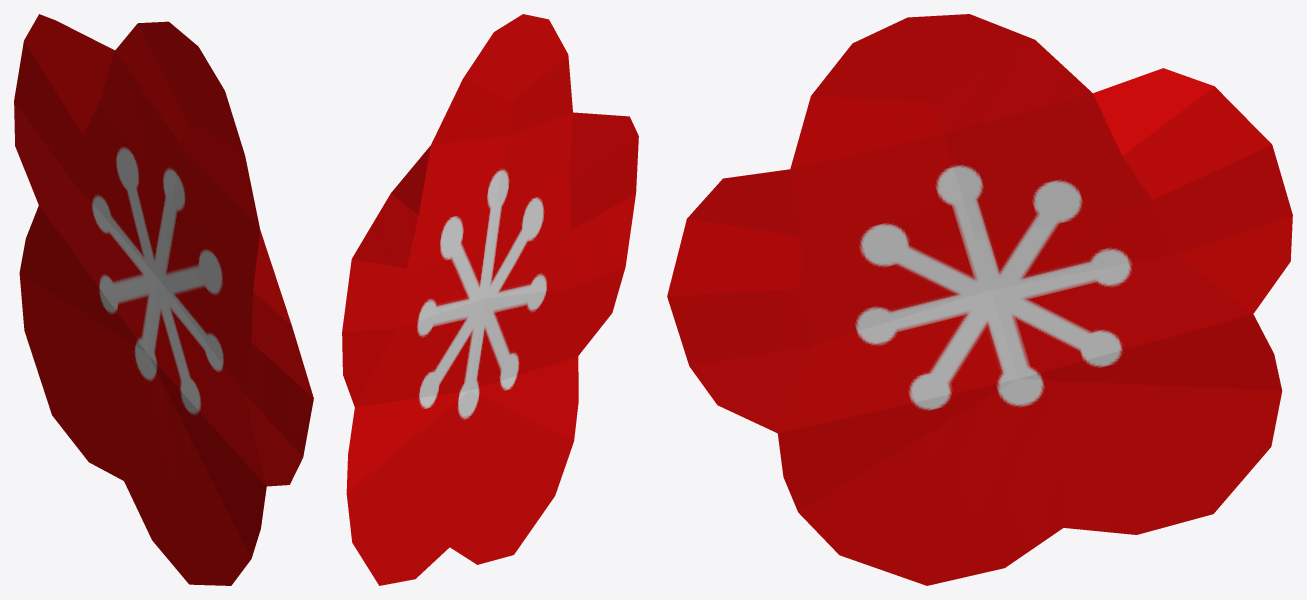
File: ume3.fbx
The picture shows the model from 3 angles, left to right: view 1: azimuth 30°, elevation 25°; view 2: azimuth 150°, elevation 25°; view 3: azimuth 270°, elevation 25°; orthographic projection. The views are drawn at different scales.
Parts seen in each view (by area): view 1: pasted__polySurface1; view 2: pasted__polySurface1; view 3: pasted__polySurface1.
Part boxes in pixels (x1,y1,x2,y2): pasted__polySurface1: (14, 14, 313, 585); pasted__polySurface1: (342, 14, 638, 585); pasted__polySurface1: (667, 14, 1292, 585).
Size of the model in its own units: 0.074 by 1.48 by 1.47.
1 material, 1 textured.
